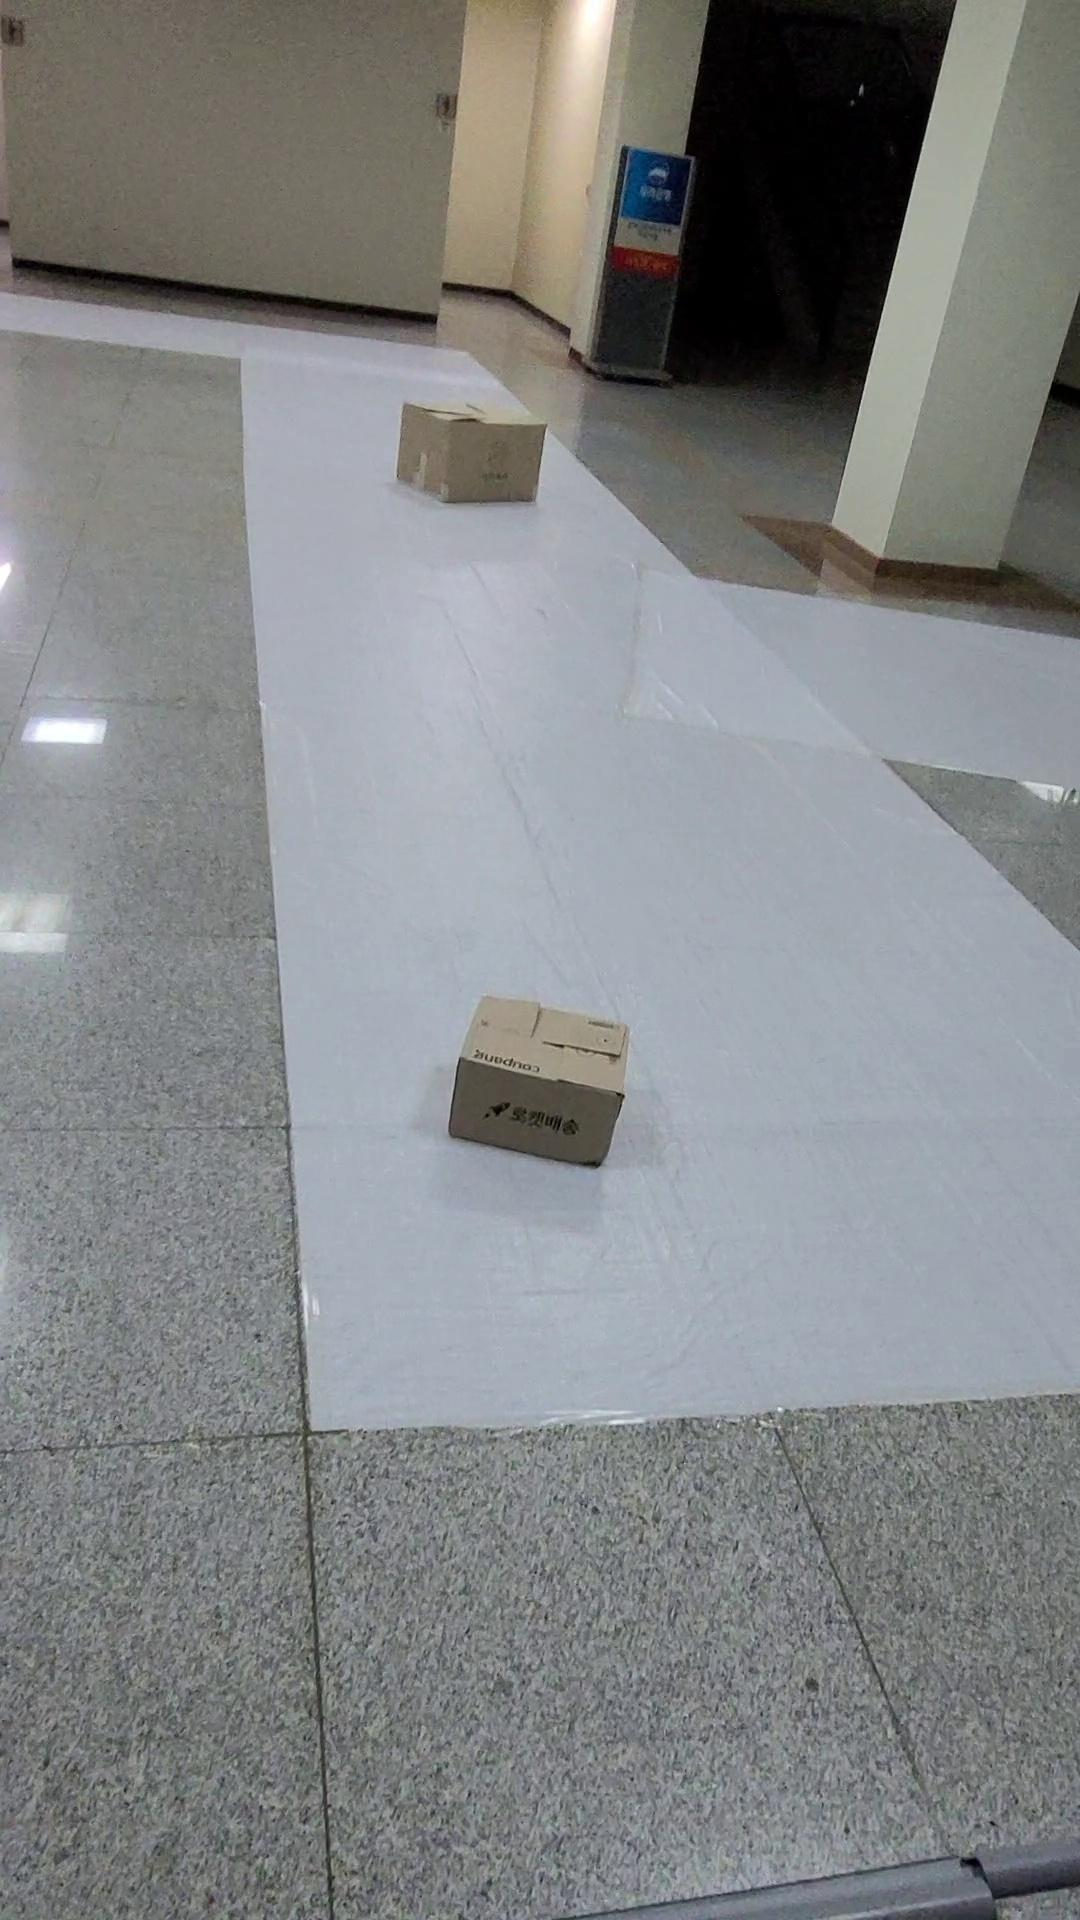Box: (431, 975, 655, 1185), (388, 396, 564, 502)
